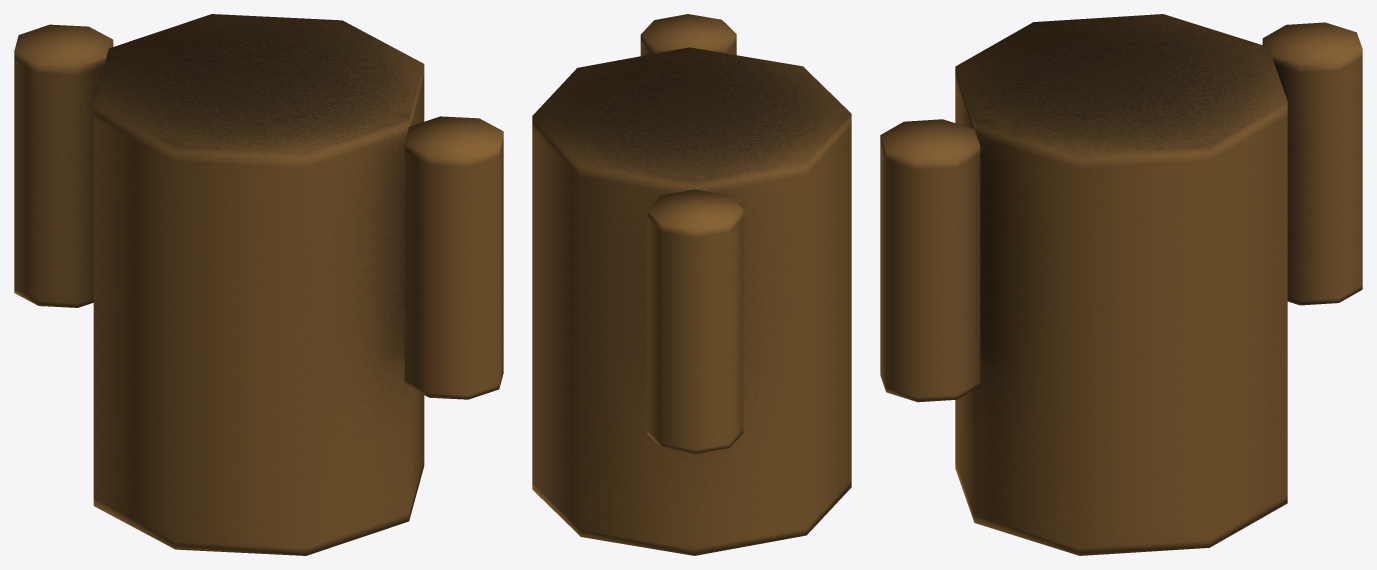
The model's file is Android_brown.dae.
The picture shows the model from 3 angles, left to right: view 1: azimuth 30°, elevation 25°; view 2: azimuth 150°, elevation 25°; view 3: azimuth 270°, elevation 25°; orthographic projection. The views are drawn at different scales.
Parts seen in each view (by area): view 1: Body, LeftHand, RightHand; view 2: Body, RightHand, LeftHand; view 3: Body, LeftHand, RightHand.
Boxes of the visible parts, x1,y1,x2,y2 form: Body: (93, 14, 424, 555); LeftHand: (404, 116, 503, 399); RightHand: (14, 24, 113, 307); Body: (532, 47, 851, 555); RightHand: (647, 189, 743, 453); LeftHand: (640, 14, 736, 55); Body: (955, 14, 1287, 555); LeftHand: (880, 119, 980, 402); RightHand: (1262, 22, 1362, 305).
Size of the model in its own units: 1.94 by 2.81 by 2.58.
1 material, 1 textured.
